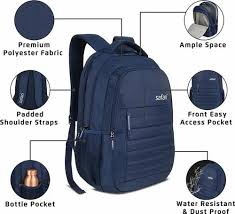backpack: (64, 33, 174, 194)
